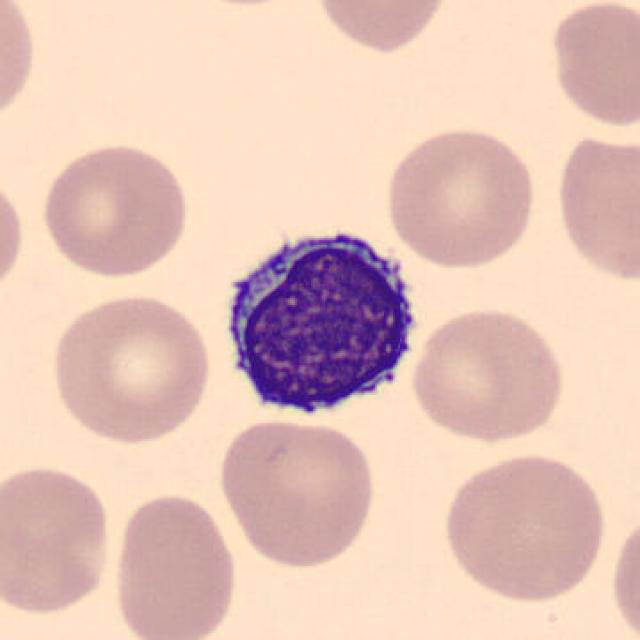Lymphocyte: (210, 214, 430, 428)
RBC: (438, 448, 612, 606), (44, 289, 217, 446), (214, 416, 382, 571), (380, 121, 540, 272), (407, 303, 569, 446), (35, 137, 194, 280), (106, 488, 242, 640), (0, 458, 117, 620), (551, 127, 640, 287), (544, 0, 640, 132), (309, 0, 455, 56), (0, 0, 39, 132), (606, 506, 640, 640), (0, 165, 28, 303)
